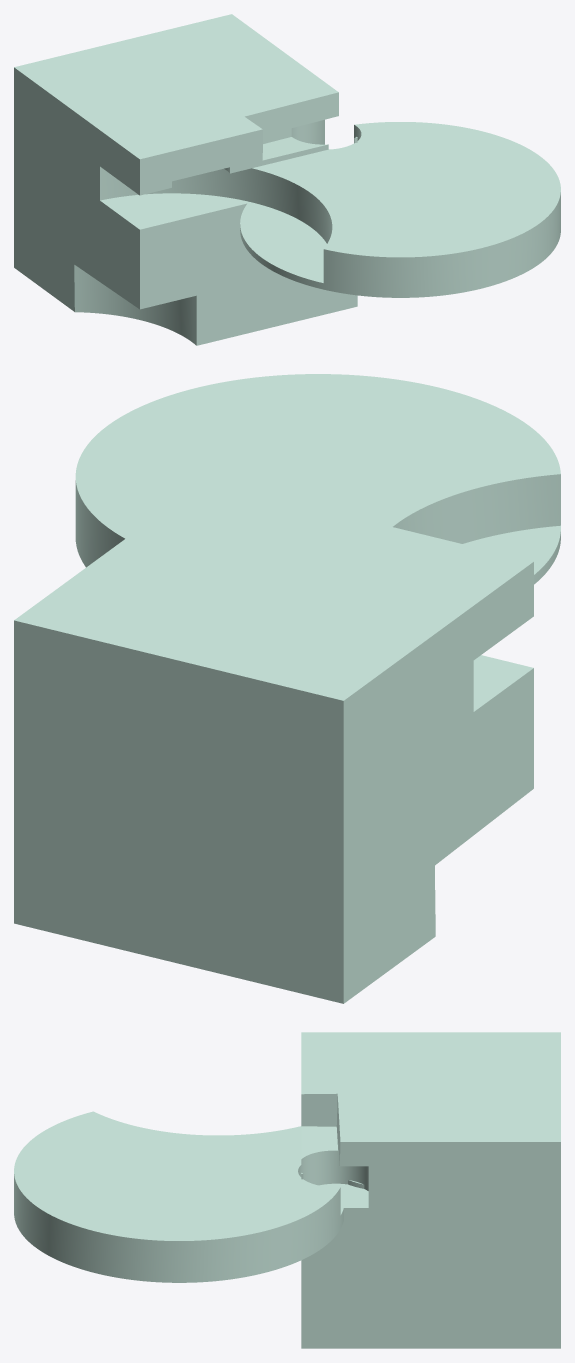
The picture shows the model from 3 angles, top to bottom: view 1: azimuth 30°, elevation 25°; view 2: azimuth 150°, elevation 25°; view 3: azimuth 270°, elevation 25°; orthographic projection. The views are drawn at different scales.
Visible parts, largest first — view 1: Renderer Node; view 2: Renderer Node; view 3: Renderer Node.
Boxes of the visible parts, box(x1,y1,x2,y2) form: Renderer Node: box(14, 14, 560, 345); Renderer Node: box(14, 374, 560, 1003); Renderer Node: box(14, 1032, 560, 1348).
Size of the model in its own units: 1.31 by 0.7344 by 1.76.
